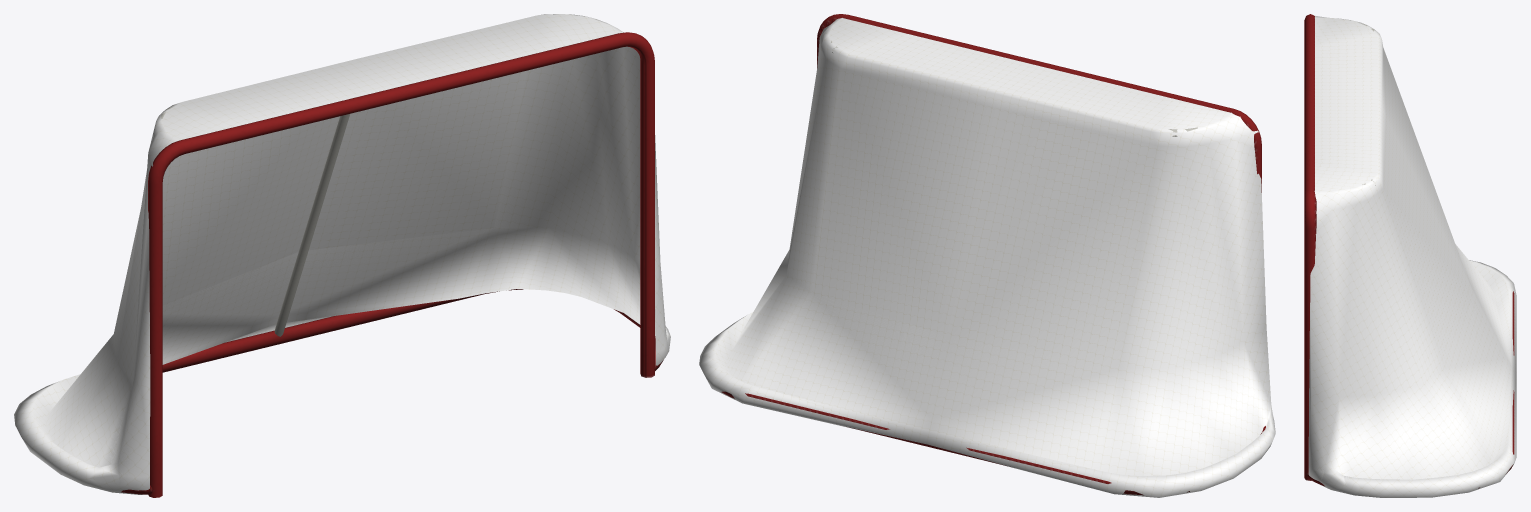
The model's file is Hockey_gate_001.FBX.
3 renders of one model, left to right at view 1: azimuth 30°, elevation 25°; view 2: azimuth 150°, elevation 25°; view 3: azimuth 270°, elevation 25°, orthographic. The views are drawn at different scales.
Parts seen in each view (by area): view 1: Hockey_gate_002; view 2: Hockey_gate_002; view 3: Hockey_gate_002.
Boxes of the visible parts, x1=… form: Hockey_gate_002: x1=14, y1=14, x2=670, y2=497; Hockey_gate_002: x1=699, y1=14, x2=1275, y2=497; Hockey_gate_002: x1=1304, y1=14, x2=1516, y2=497.
Bounding box in the file's own units: 2.3 × 1.27 × 0.8741.
2 materials, 2 textured.
